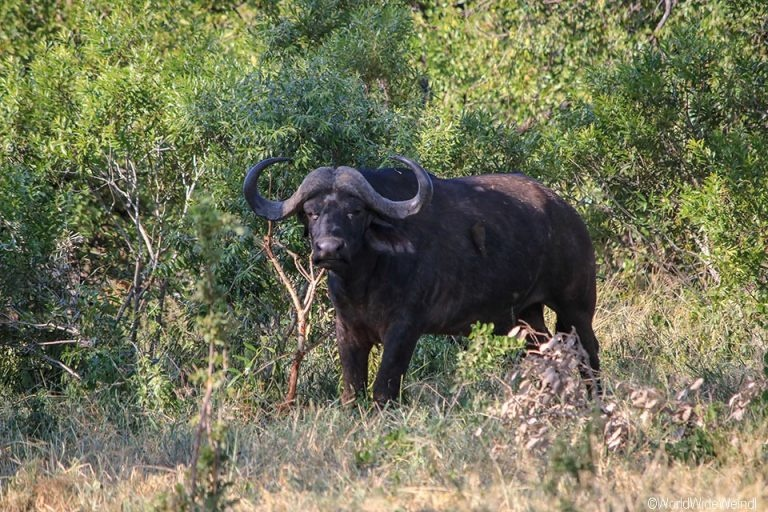buffalo: (237, 152, 609, 406)
